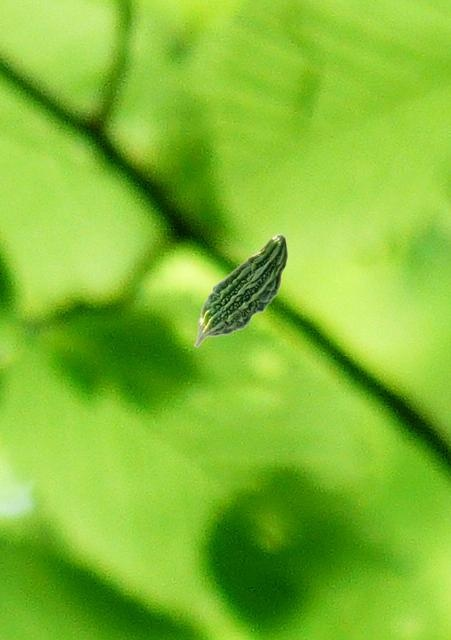ampalaya: (193, 231, 288, 347)
